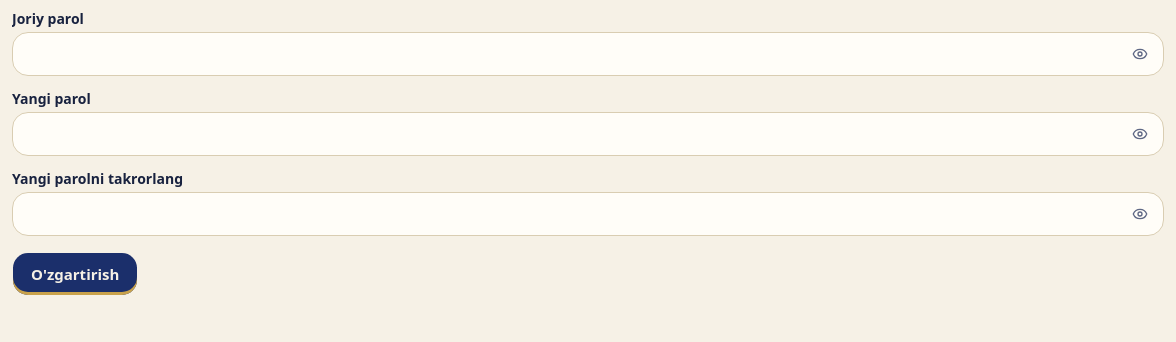
it: ChangePasswordForm › should put the backend message under the current password when it is wrong
In the password field labelled "Joriy parol": (588, 54) [12,32,1164,76], type "NotMine123"
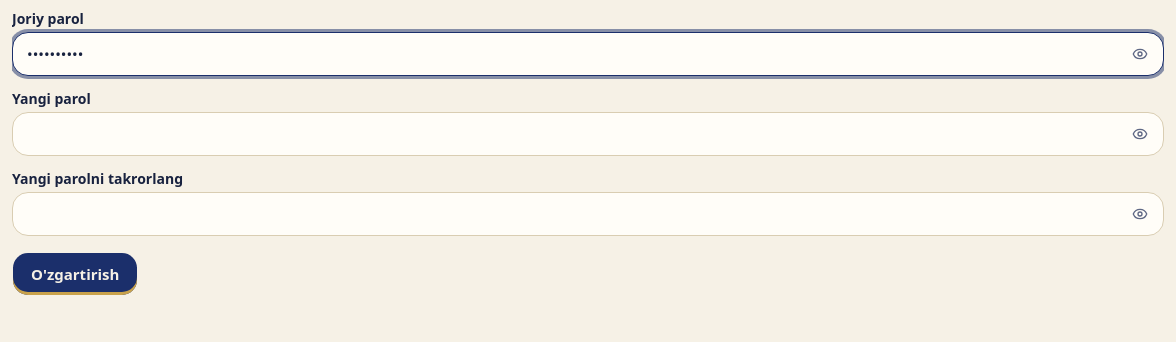
In the password field labelled "Yangi parol": (588, 134) [12,112,1164,156], type "Resep67890"
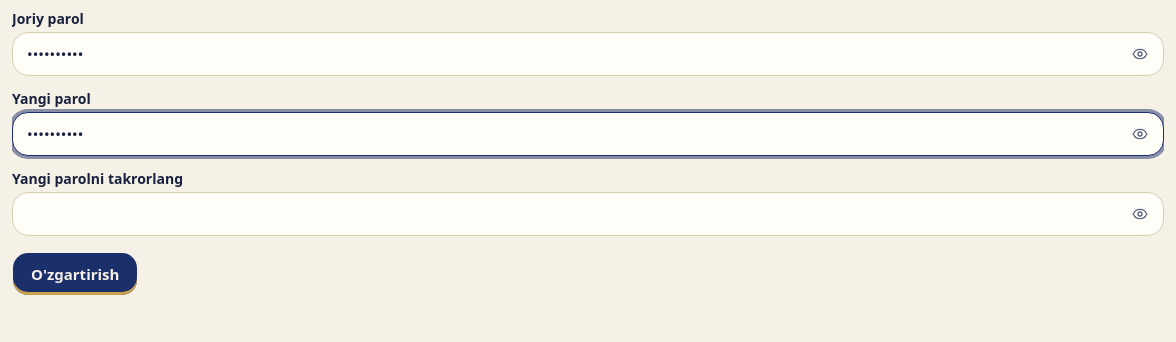
In the password field labelled "Yangi parolni takrorlang": (588, 214) [12,192,1164,236], type "Resep67890"
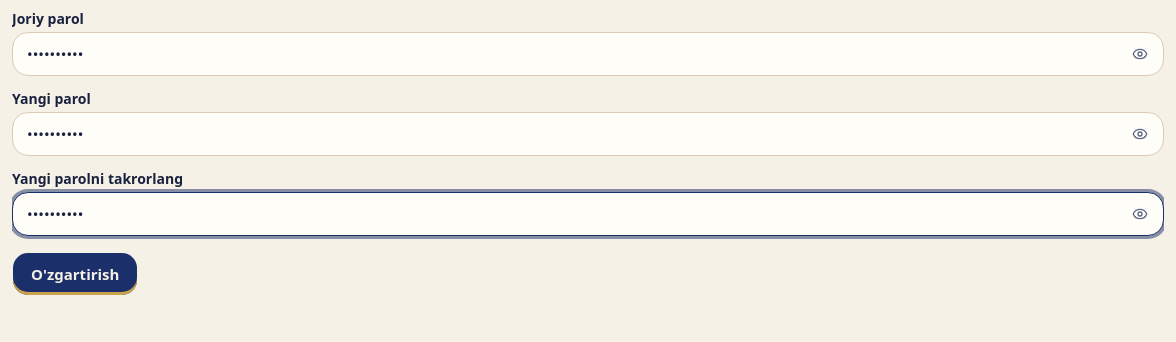
Click the button "O'zgartirish": (75, 274) [12,252,138,296]
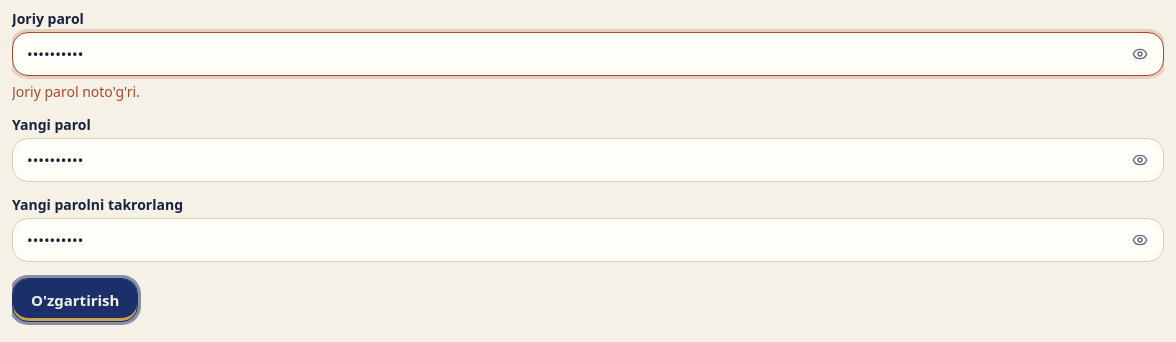
Expected: the text "Joriy parol noto'g'ri." is shown, [12,82,140,101]
